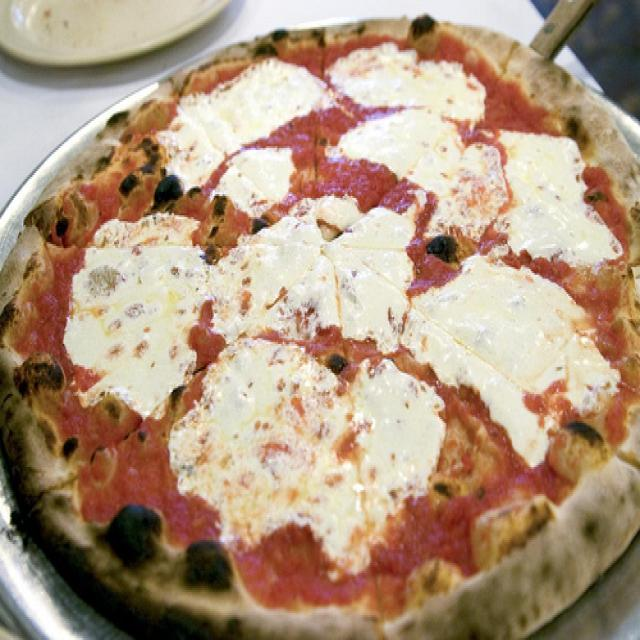Wet Waste: (7, 10, 640, 640)
